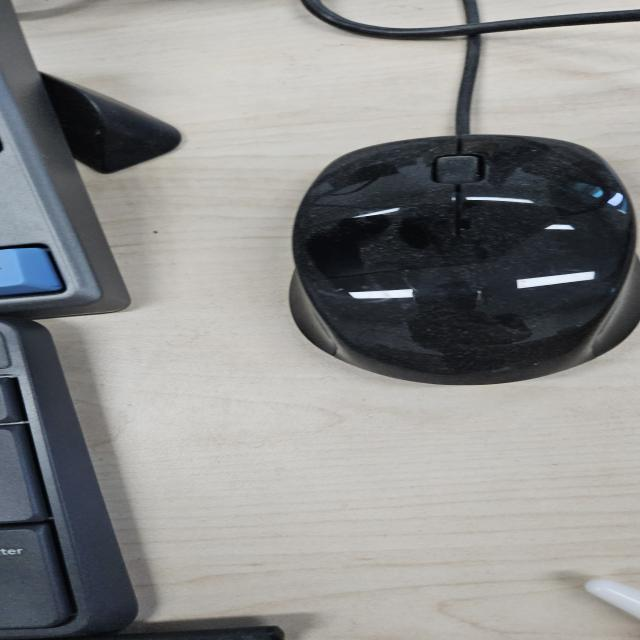Mouse: (285, 132, 636, 386)
